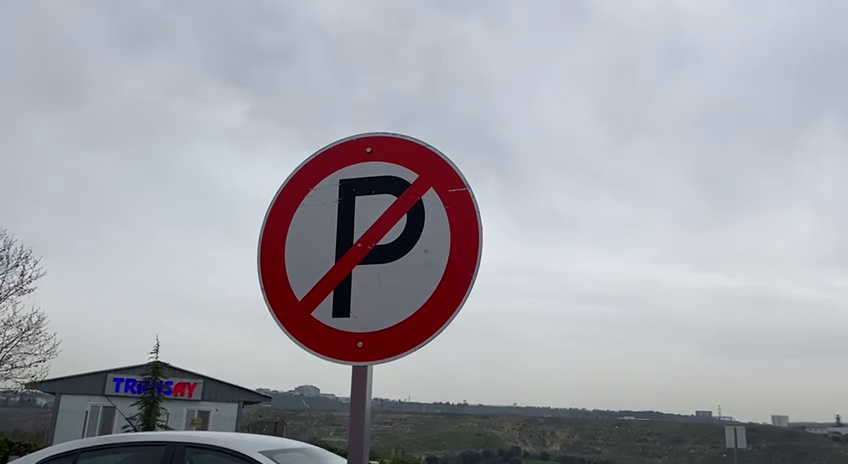noparking: (251, 126, 493, 369)
